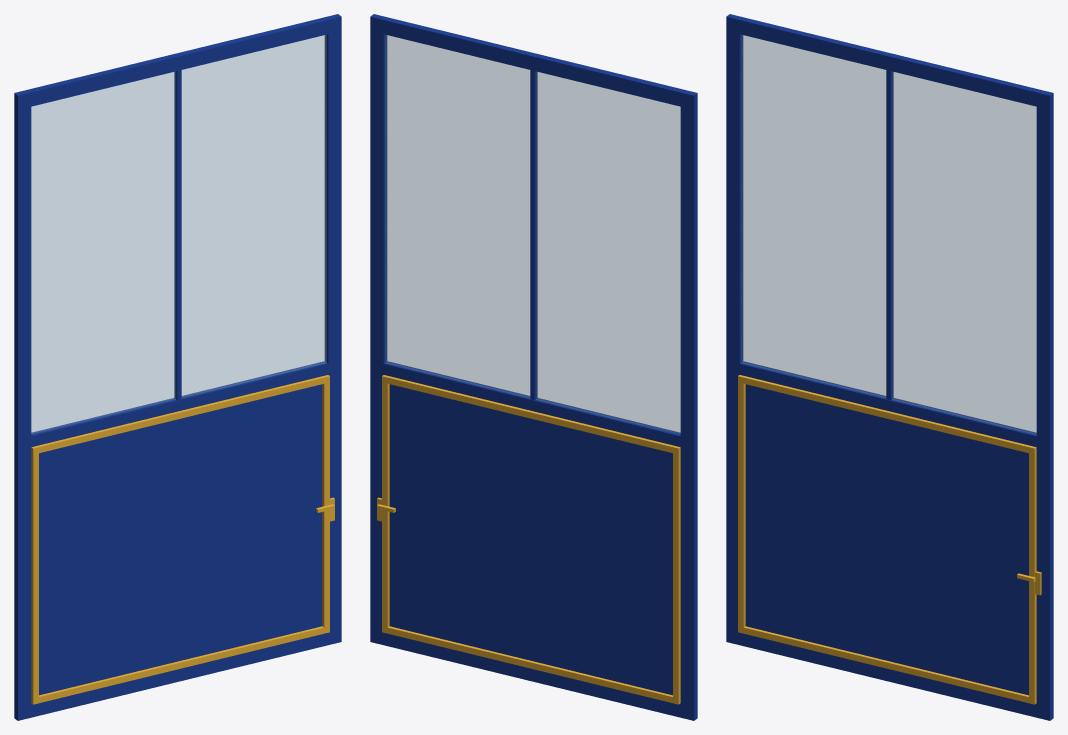
File: SM_Door_academy_250x460.fbx
3 views of the same model, side by side, from view 1: azimuth 30°, elevation 25°; view 2: azimuth 150°, elevation 25°; view 3: azimuth 330°, elevation 25° (orthographic).
Parts seen in each view (by area): view 1: SM_Door_academy_250x460; view 2: SM_Door_academy_250x460; view 3: SM_Door_academy_250x460.
Part boxes in pixels (bbox=[...]): SM_Door_academy_250x460: bbox=[14, 14, 341, 720]; SM_Door_academy_250x460: bbox=[370, 14, 697, 720]; SM_Door_academy_250x460: bbox=[726, 14, 1053, 720].
Size of the model in its own units: 2.49 by 4.59 by 0.175.
